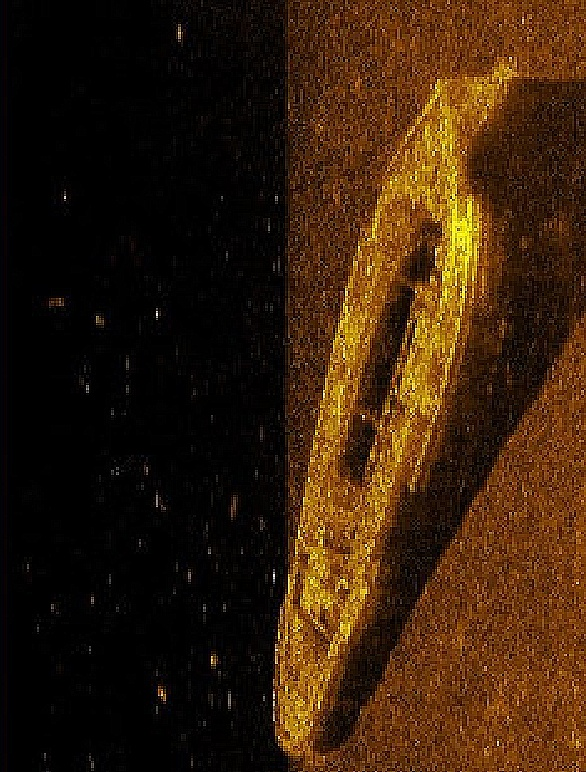ship: (269, 79, 491, 761)
